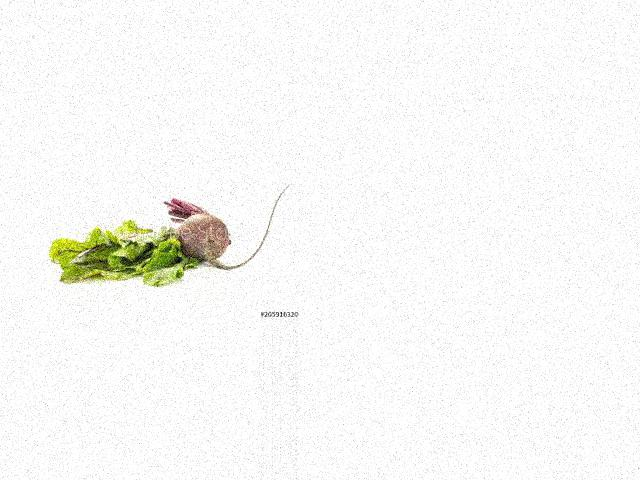beet: (162, 183, 293, 270)
